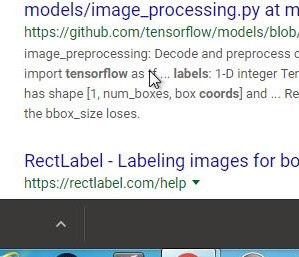cursor: (147, 68, 161, 89)
